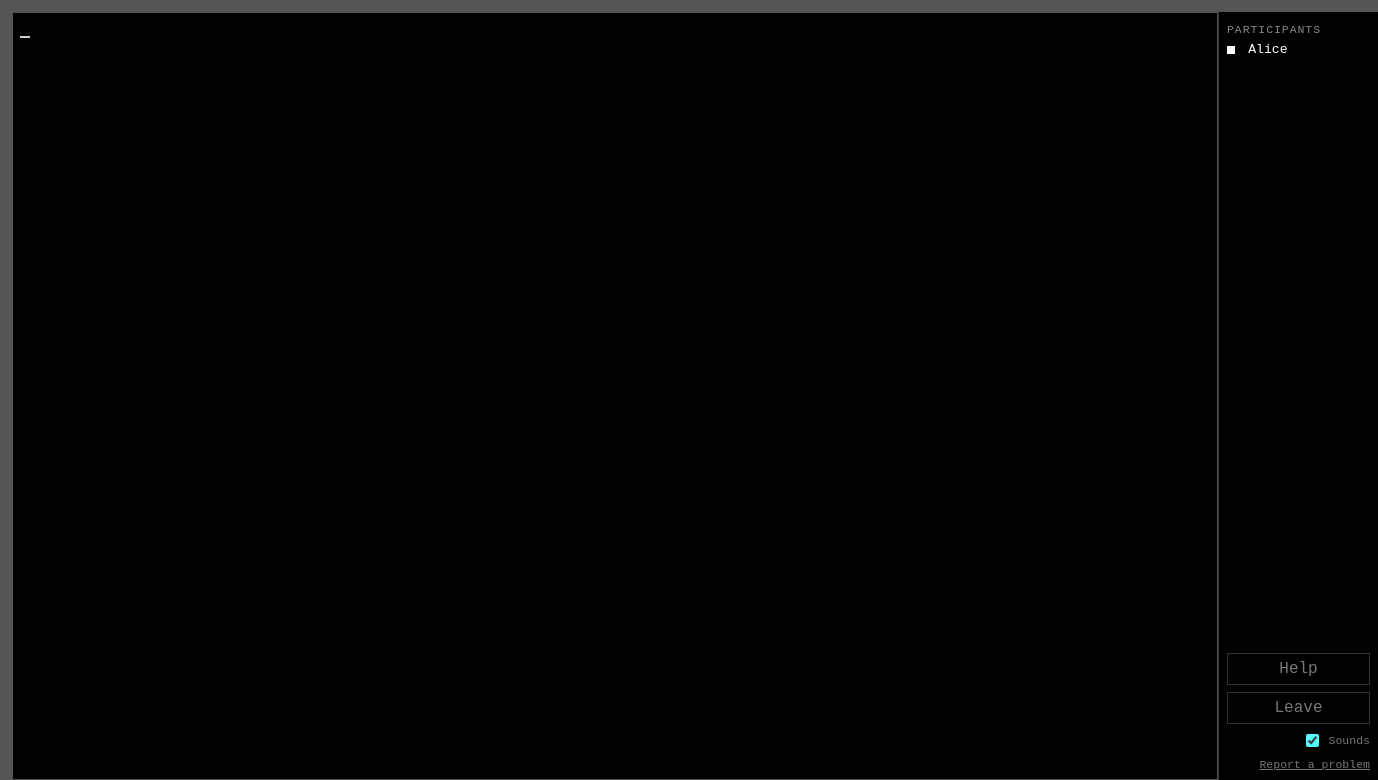
Test case: Rendering from server state › a stored session whose lock is free is resumed, and leaving releases the lock
Click the button "Leave". click: (1298,708)
box: [1227,692,1370,724]
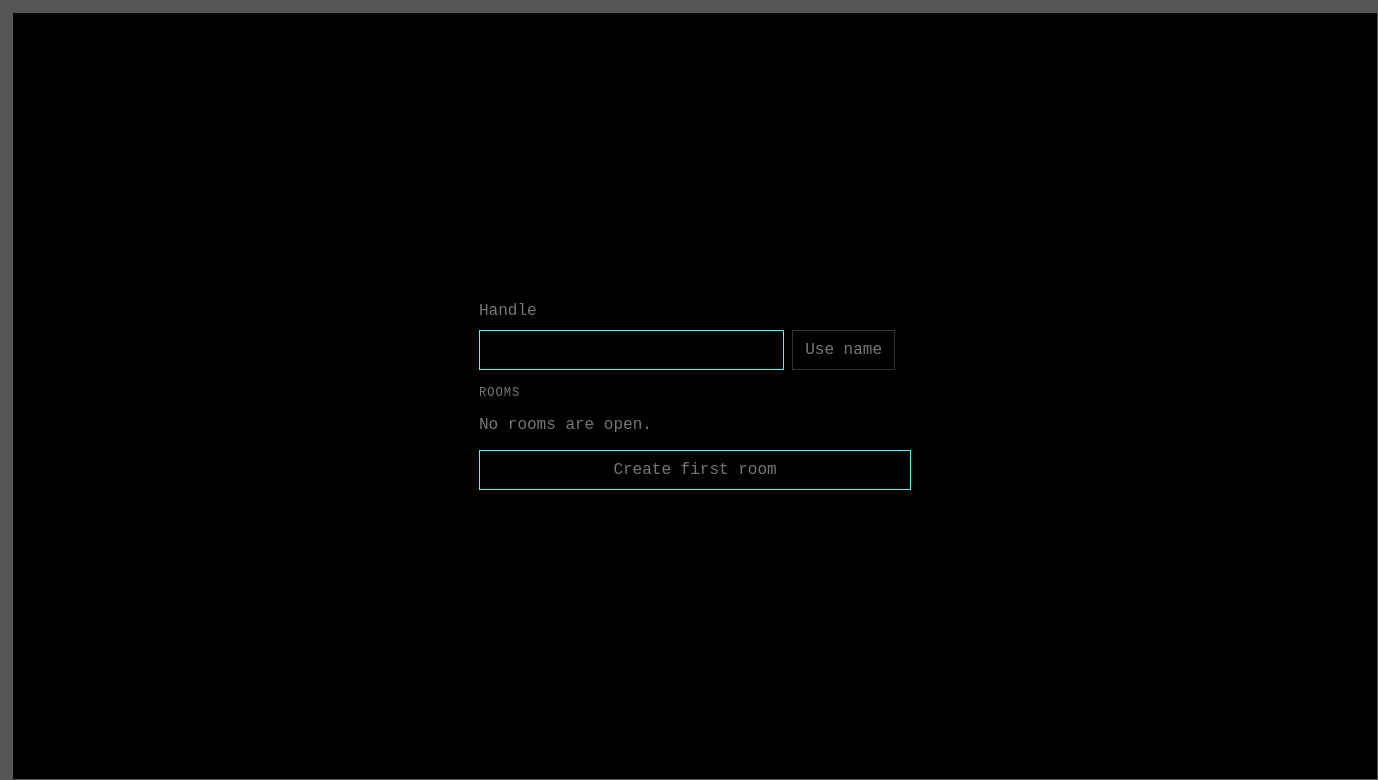
Expected: the text "ROOMS" is shown, [479,386,520,400]
